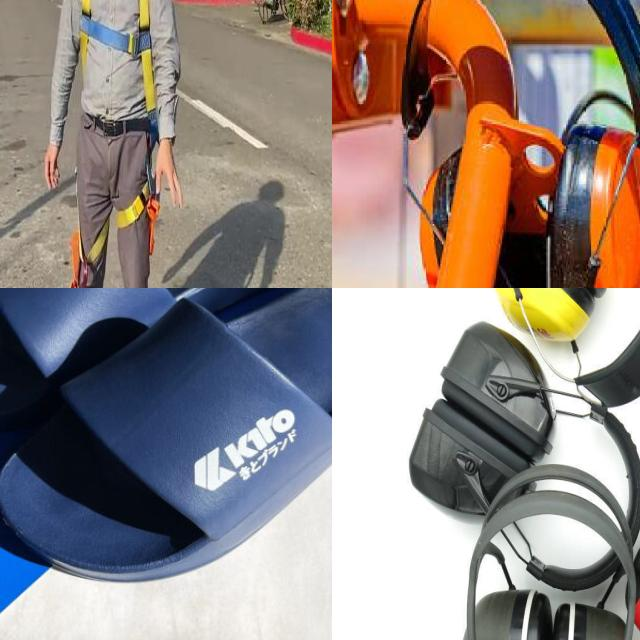Ear-protection: (404, 0, 640, 288), (405, 397, 533, 532), (438, 320, 552, 465), (490, 288, 595, 342), (454, 590, 547, 640), (544, 598, 638, 640)
Harness: (70, 188, 160, 288), (82, 0, 156, 114)
Sandals: (0, 288, 332, 585)
